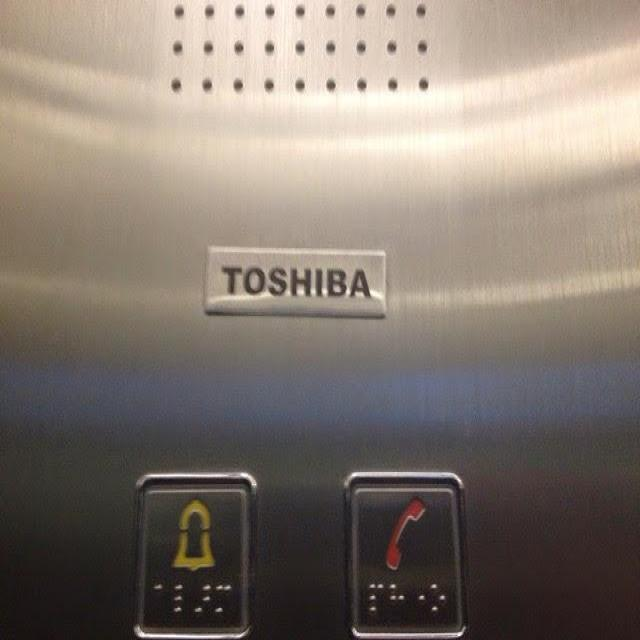alarm: (129, 466, 259, 638)
call: (340, 467, 467, 636)
